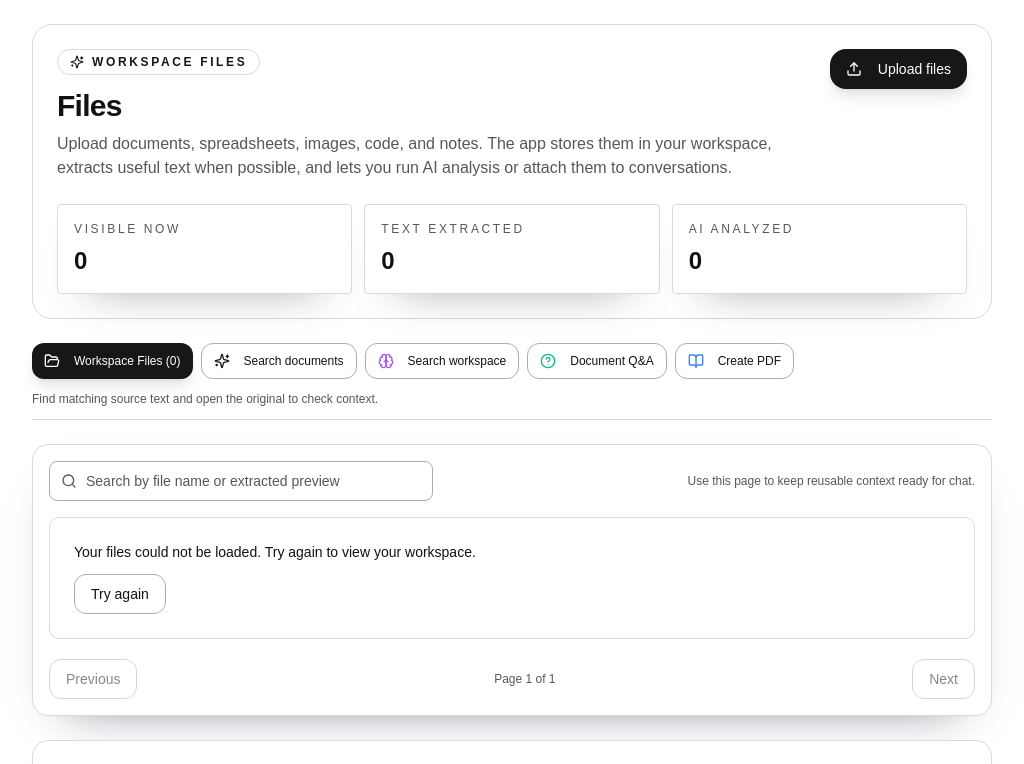
it: shows a recoverable list failure instead of claiming the workspace is empty
This screenshot has width=1024, height=764.
Expected: the message shows "files could not be loaded", left=74, top=544, right=476, bottom=560
What coordinates should you click on to do the following:
click the button "Try again"
I would click on:
 (120, 594)
Its box is left=74, top=574, right=166, bottom=614.
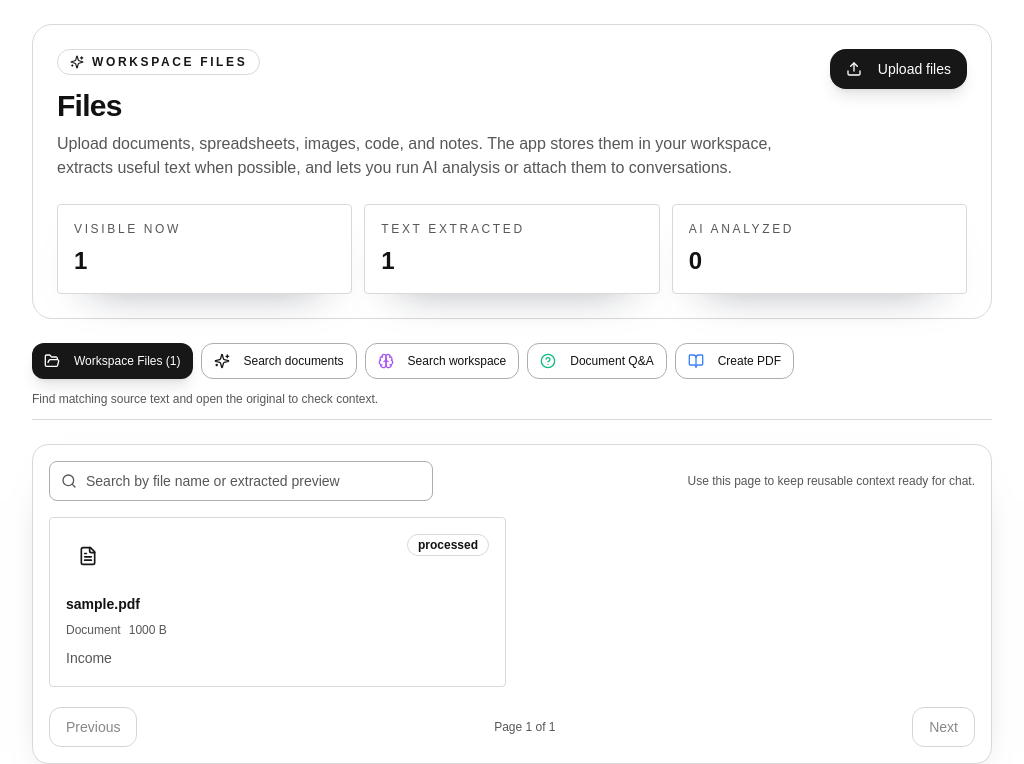
Expected: the button "processed sample.pdf Document 1000 B Income" is shown, left=49, top=517, right=506, bottom=687
Expected: the message "Your files could not be loaded. Try again to view your workspace. Try again" is gone
